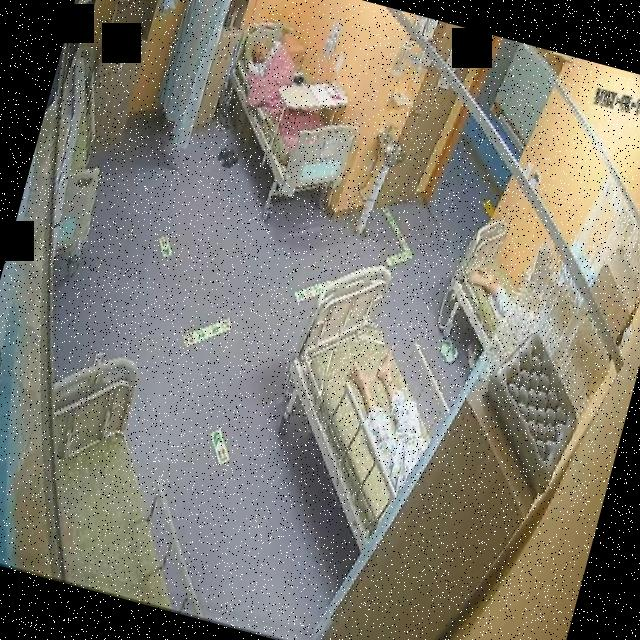bed: (3, 343, 262, 620), (248, 250, 471, 556), (198, 12, 382, 212), (438, 211, 533, 354)
lie: (323, 331, 452, 494)
patient: (325, 330, 454, 492), (243, 32, 287, 82)
